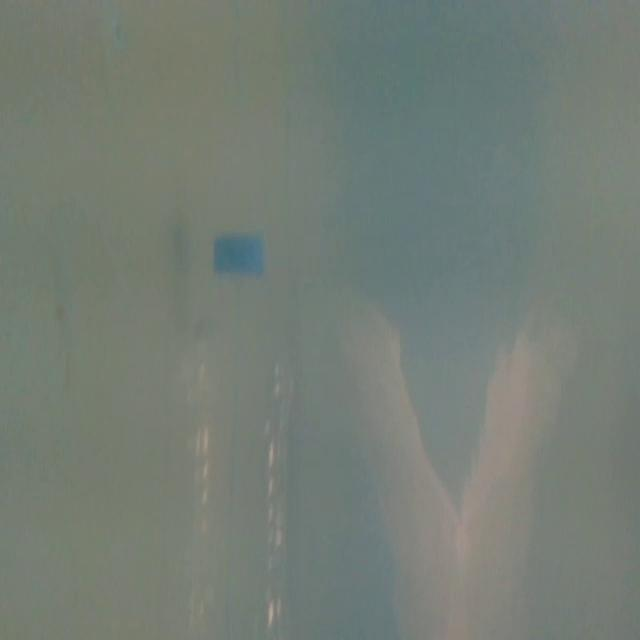plastic bags: (299, 270, 490, 640)
plastic bottle: (175, 224, 301, 640)
